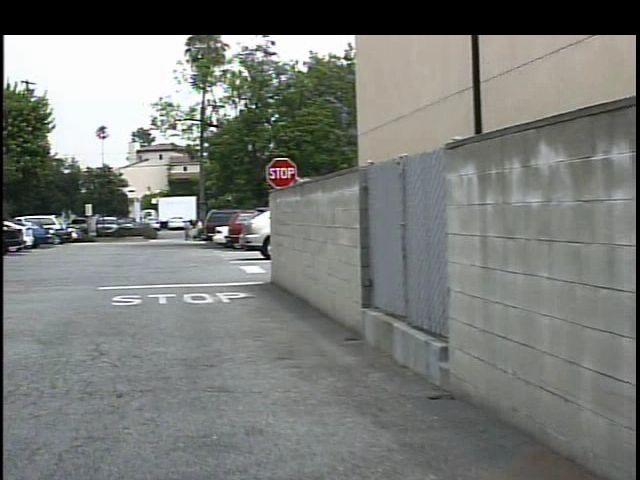person: (174, 217, 188, 243), (186, 218, 200, 243)
